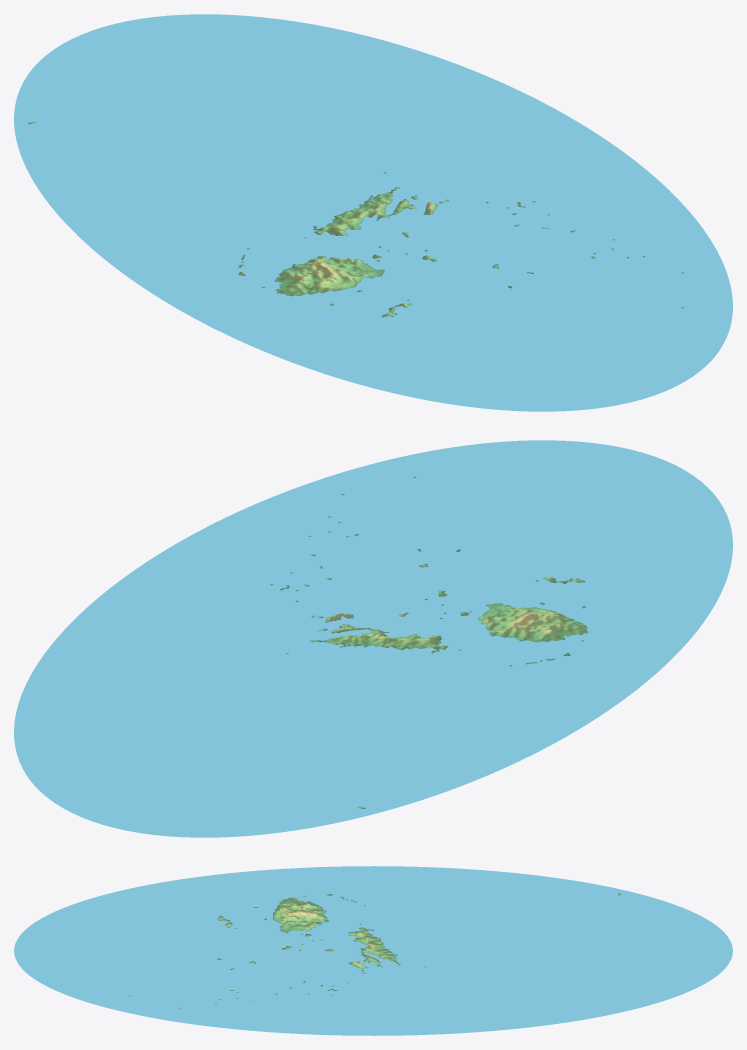
Rendered from FJI-terrain.glb.
3 views of the same model, one above another, from view 1: azimuth 30°, elevation 25°; view 2: azimuth 150°, elevation 25°; view 3: azimuth 270°, elevation 25° (orthographic). The views are drawn at different scales.
Visible parts, largest first — view 1: Relevo com hidrografia; view 2: Relevo com hidrografia; view 3: Relevo com hidrografia.
Boxes of the visible parts, box(x1,y1,x2,y2) form: Relevo com hidrografia: box(14, 14, 732, 411); Relevo com hidrografia: box(14, 440, 732, 837); Relevo com hidrografia: box(14, 866, 732, 1035).
Size of the model in its own units: 1.31 by 0.021 by 2.35.
Materials: 2 (1 with a texture image).
